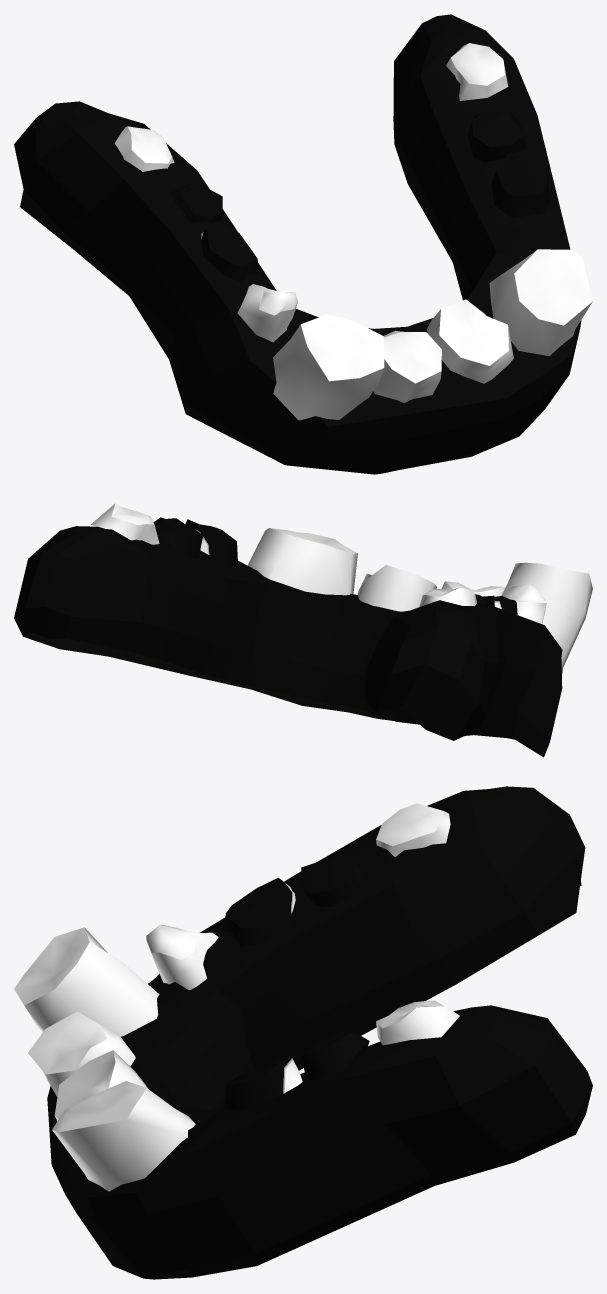
File: Jaw.obj
3 views of the same model, one above another, from view 1: azimuth 30°, elevation 25°; view 2: azimuth 150°, elevation 25°; view 3: azimuth 270°, elevation 25° (orthographic). The views are drawn at different scales.
Visible parts, largest first — view 1: Jaw; view 2: Jaw; view 3: Jaw.
Boxes of the visible parts, box(x1,y1,x2,y2) form: Jaw: box(14, 14, 592, 474); Jaw: box(14, 503, 592, 757); Jaw: box(14, 786, 592, 1279).
Size of the model in its own units: 10.47 by 6.19 by 9.6.
